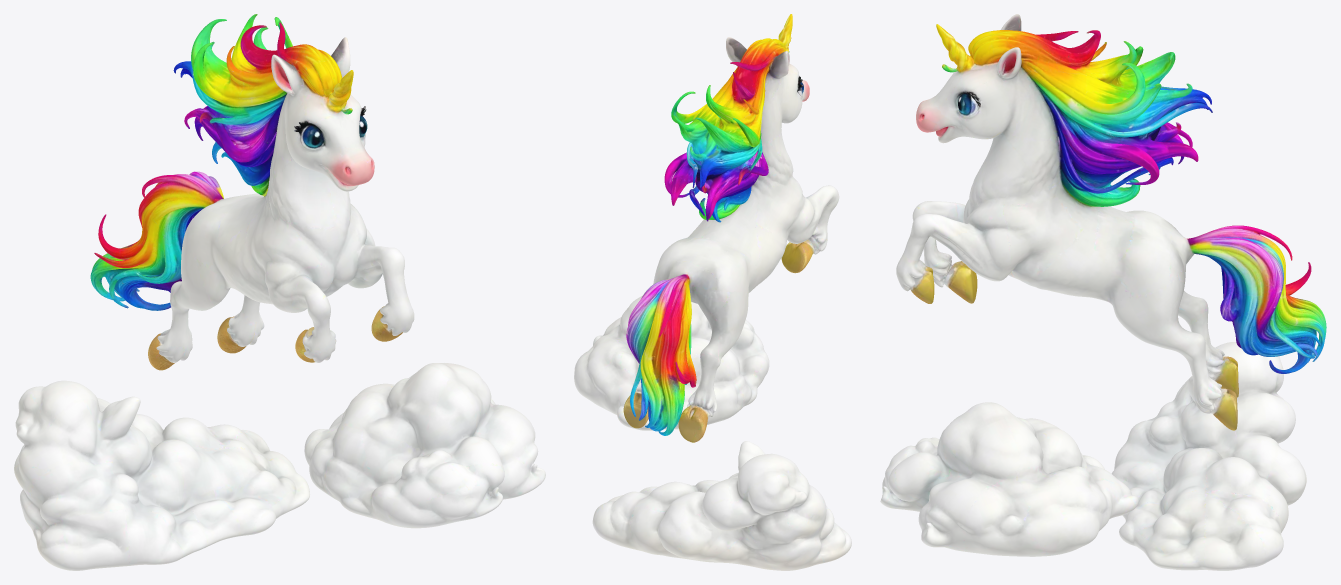
Rendered from skyjumper.glb.
The picture shows the model from 3 angles, left to right: view 1: azimuth 30°, elevation 25°; view 2: azimuth 150°, elevation 25°; view 3: azimuth 270°, elevation 25°; orthographic projection. The views are drawn at different scales.
Bounding box in the file's own units: 1.45 × 1.9 × 1.49.
1 material, 1 textured.
